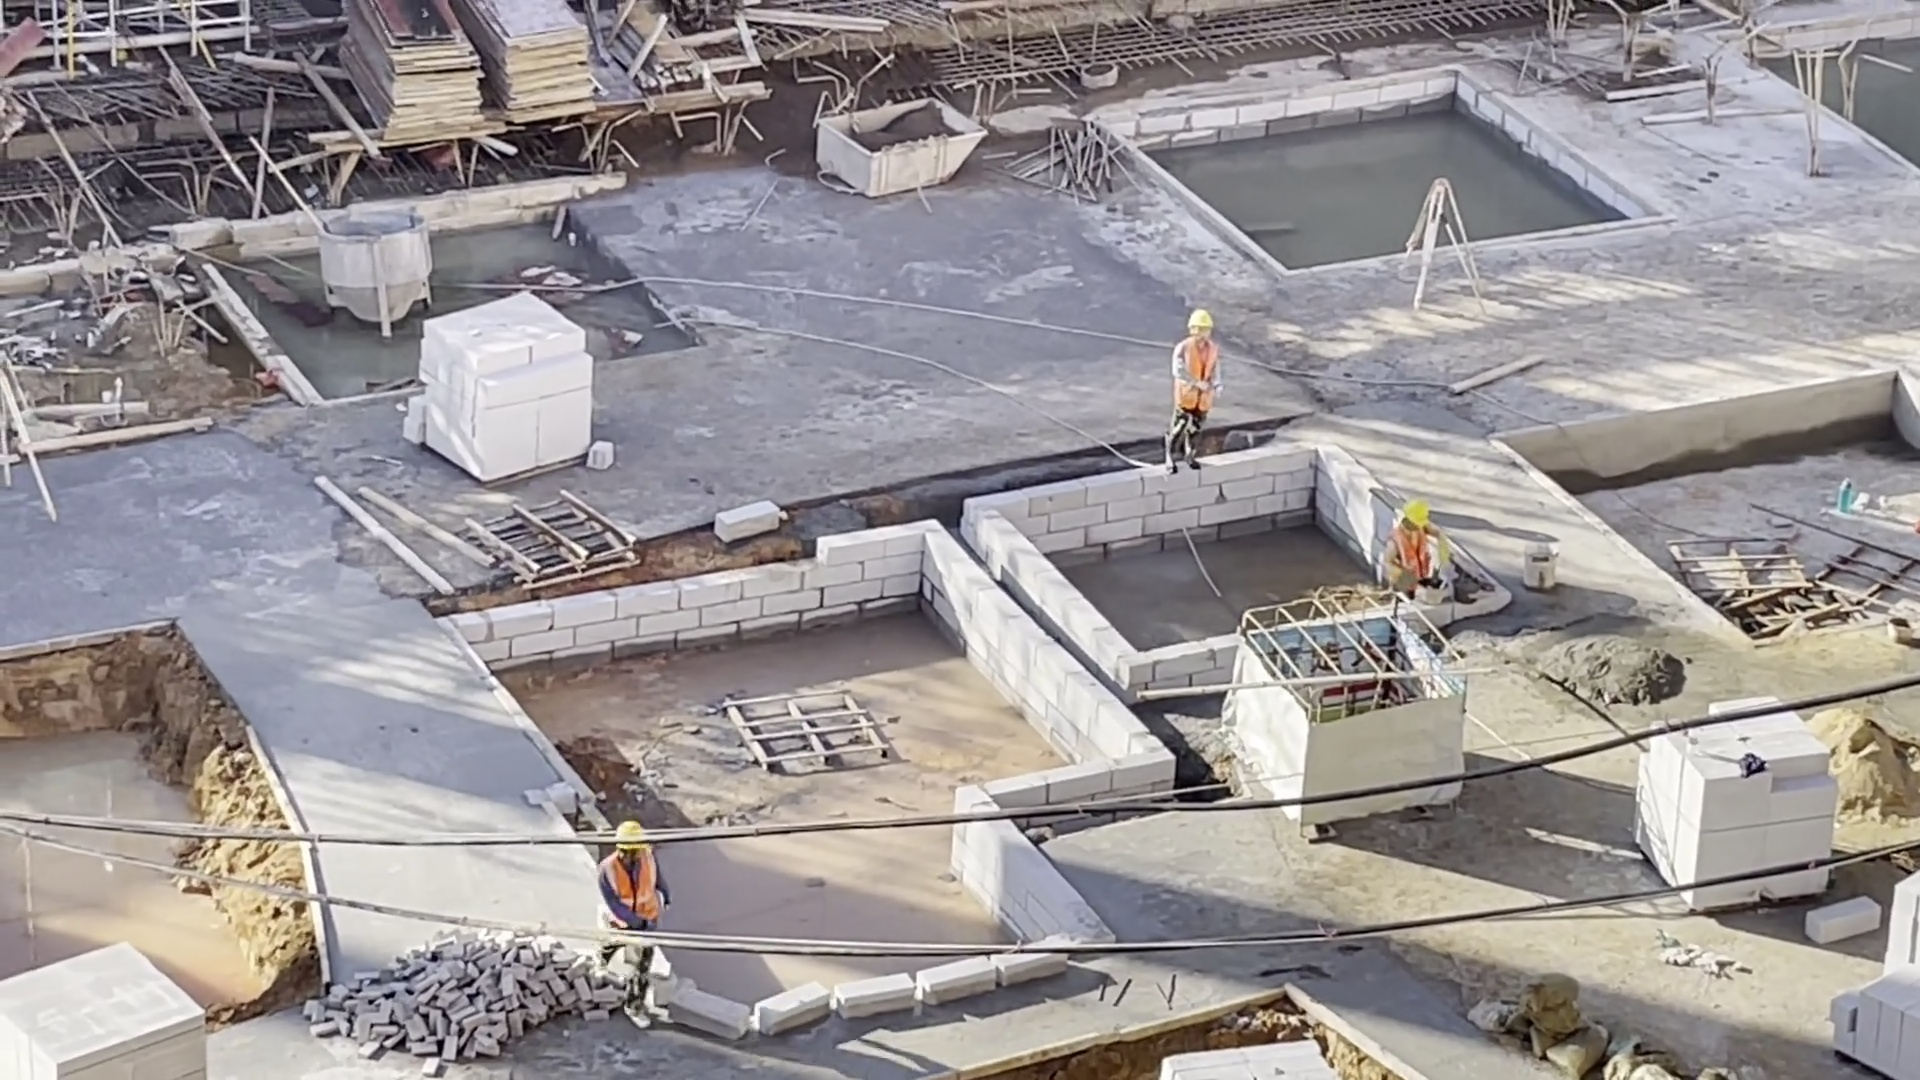board: (333, 2, 486, 143), (470, 2, 597, 128)
brick: (412, 286, 602, 483), (2, 932, 208, 1080), (1632, 741, 1842, 858), (1832, 865, 1920, 1069), (1152, 1035, 1324, 1080)
helmet: (1400, 500, 1429, 528), (1184, 309, 1215, 330)
hopper: (815, 95, 989, 208), (308, 205, 437, 343)
person: (1166, 308, 1223, 476), (1382, 499, 1449, 590)
vest: (599, 850, 666, 924), (1177, 338, 1217, 413), (1387, 524, 1437, 578)
